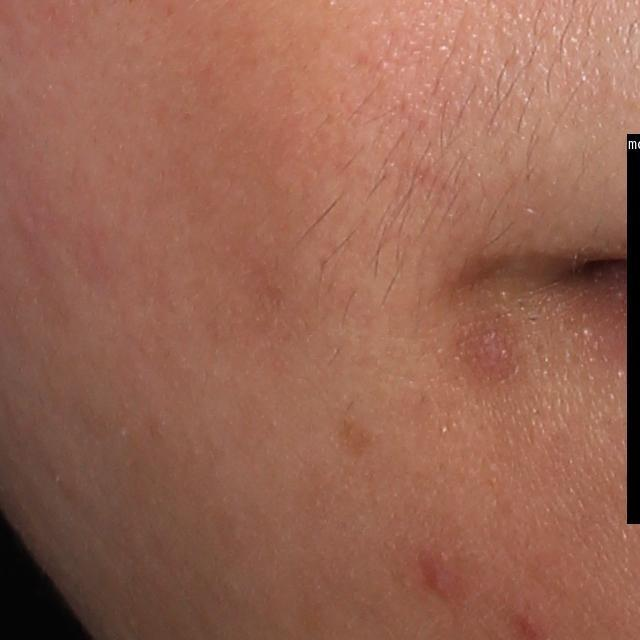papule: (458, 316, 523, 384), (425, 565, 453, 602)
